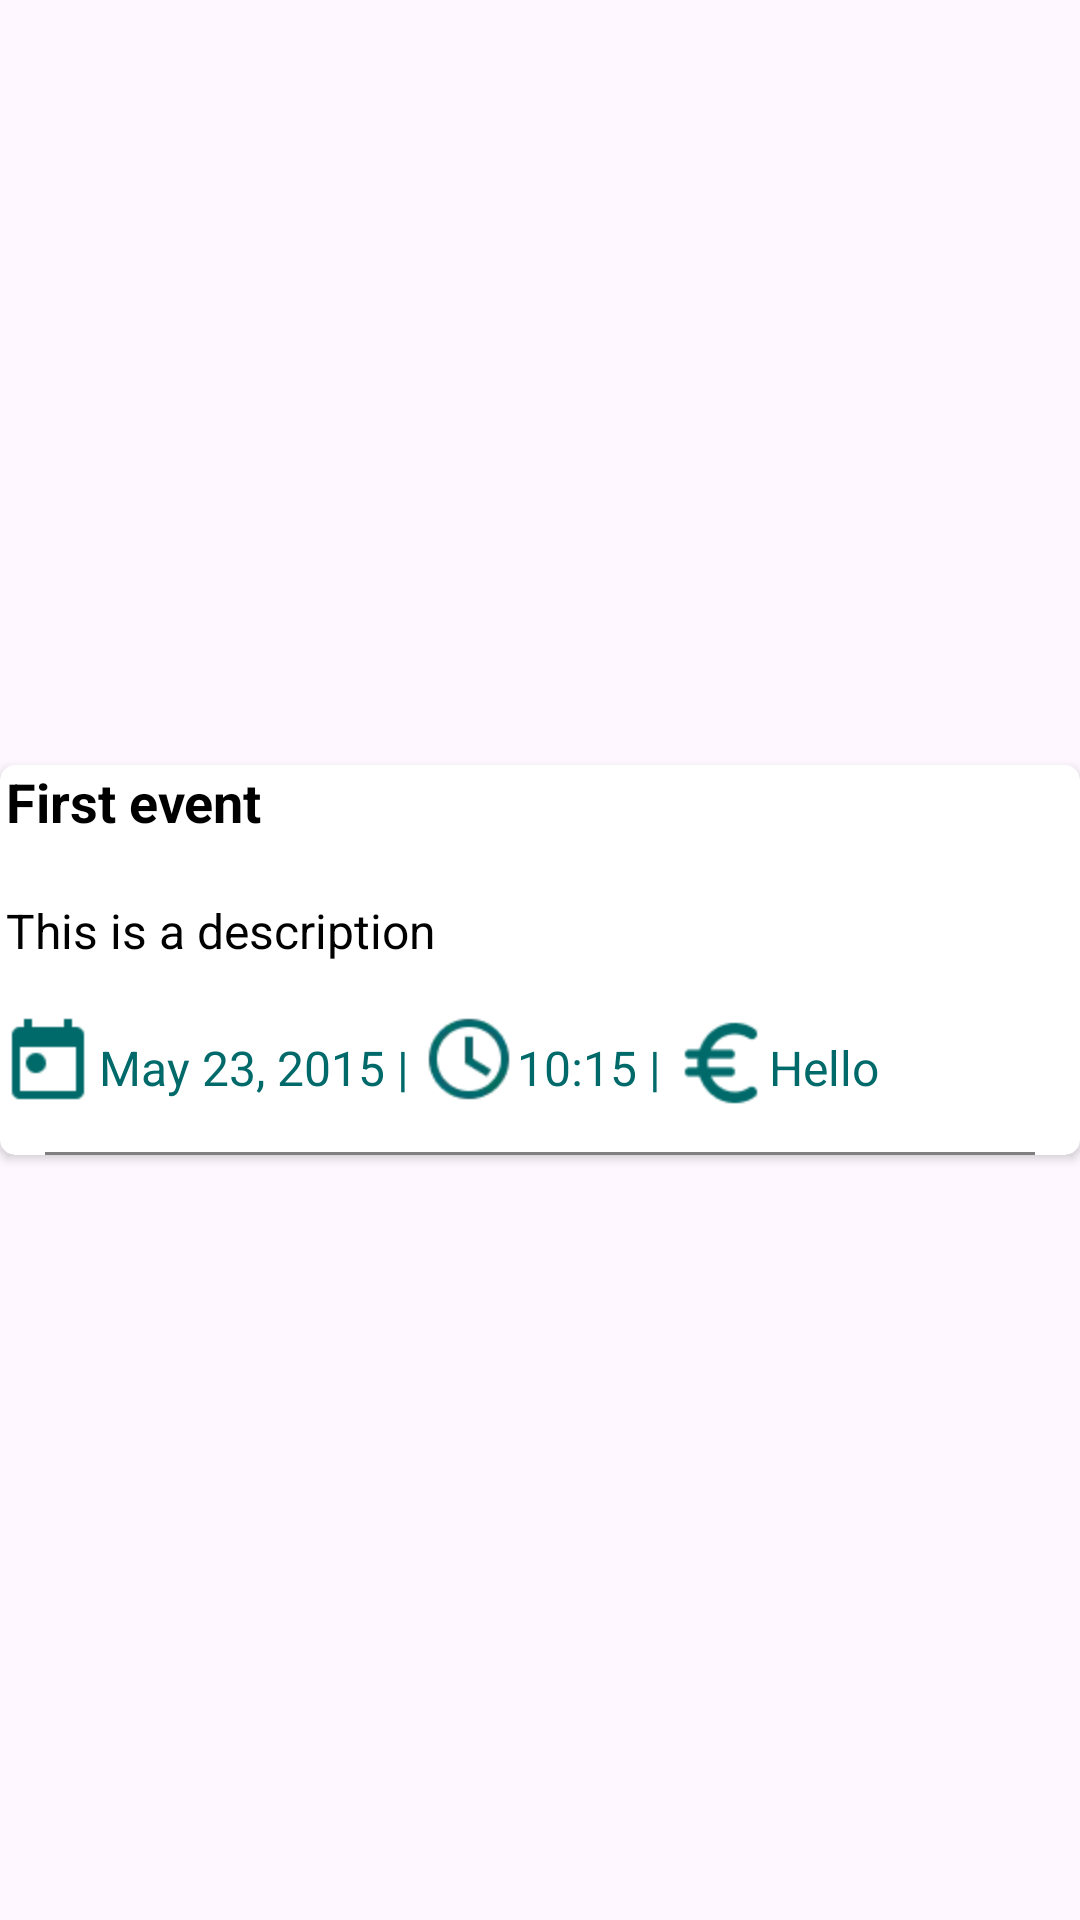

Icons on this 1080px x 1920px Android screen, each with the point to tap as [x,y]:
date: [48,1059]
euro: [721,1063]
time: [469,1059]
